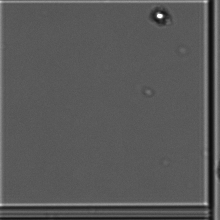Living Cell: (149, 4, 174, 32)
